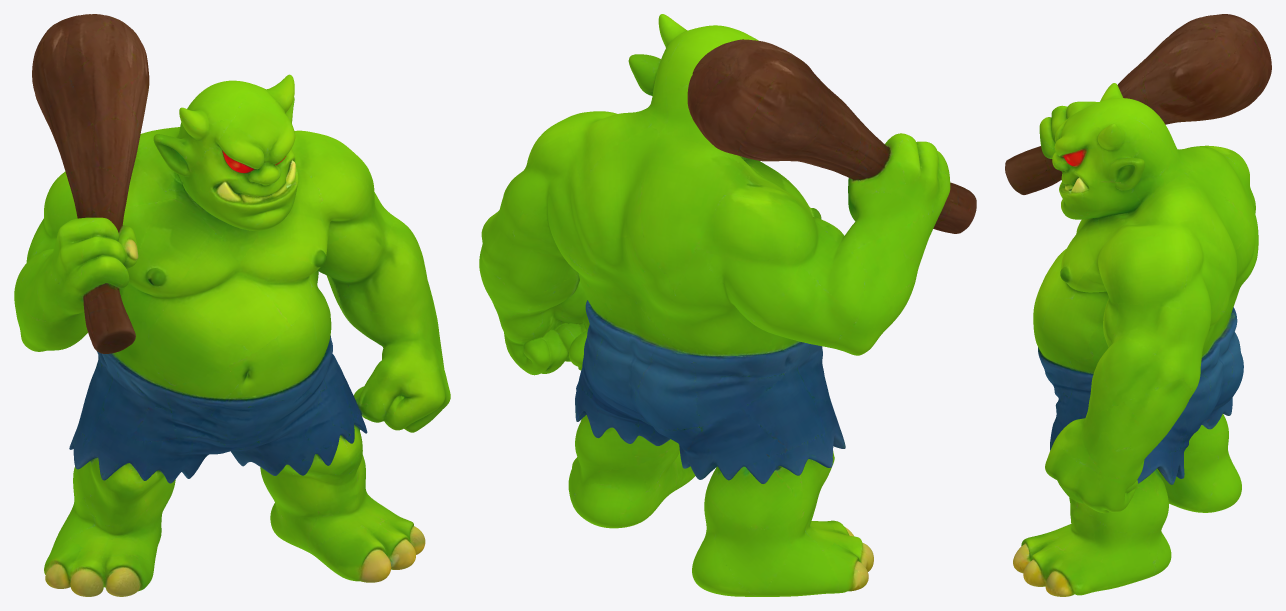
File: 3d_clubbo.glb
3 views of the same model, side by side, from view 1: azimuth 30°, elevation 25°; view 2: azimuth 150°, elevation 25°; view 3: azimuth 270°, elevation 25° (orthographic). The views are drawn at different scales.
Bounding box in the file's own units: 1.51 × 1.9 × 0.9717.
Materials: 1 (1 with a texture image).
